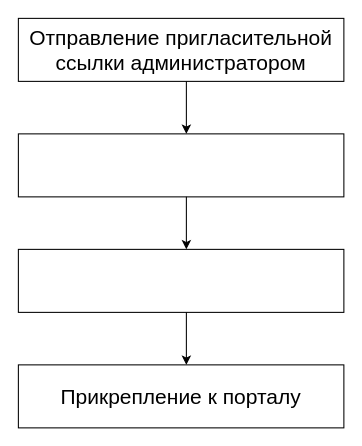
The diagram is 362 pixels wide and 446 high, and some of its shapes have lost their labels. The shapes that lost their labels are listed below. From the top down, each one's centre as x and y in pixels, then its label:
[180,165]: Получение ссылки сотрудником
[180,280]: Регистрация на портале
